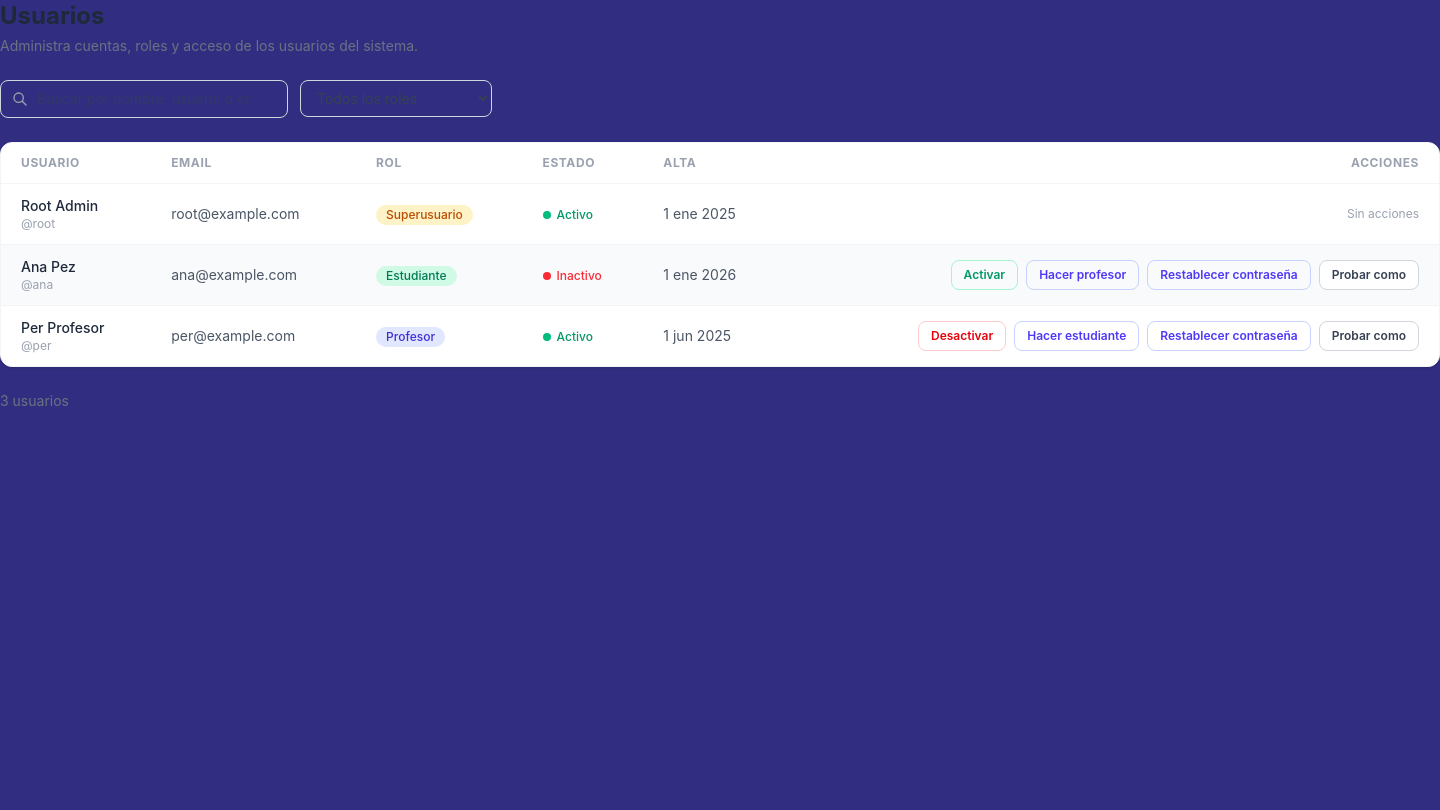
it: AdminUsersPage › rechaza una contraseña corta en el modal de restablecimiento
This screenshot has width=1440, height=810.
Click the button "Restablecer contraseña" in the row of "Ana Pez": point(1229, 275) [1147,260,1311,290]
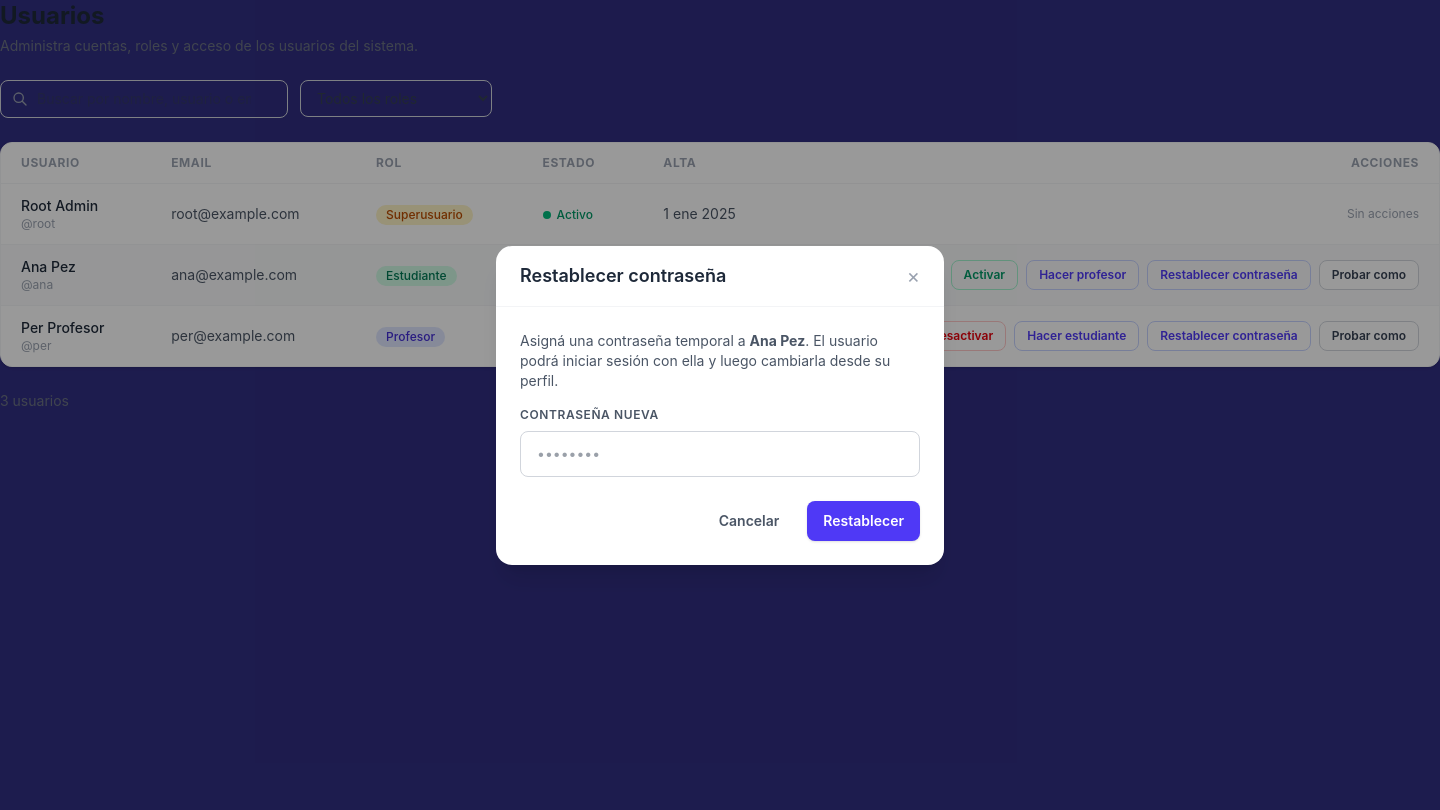
In the password field labelled "Contraseña nueva": point(720, 454) [520,430,920,476], type "123"
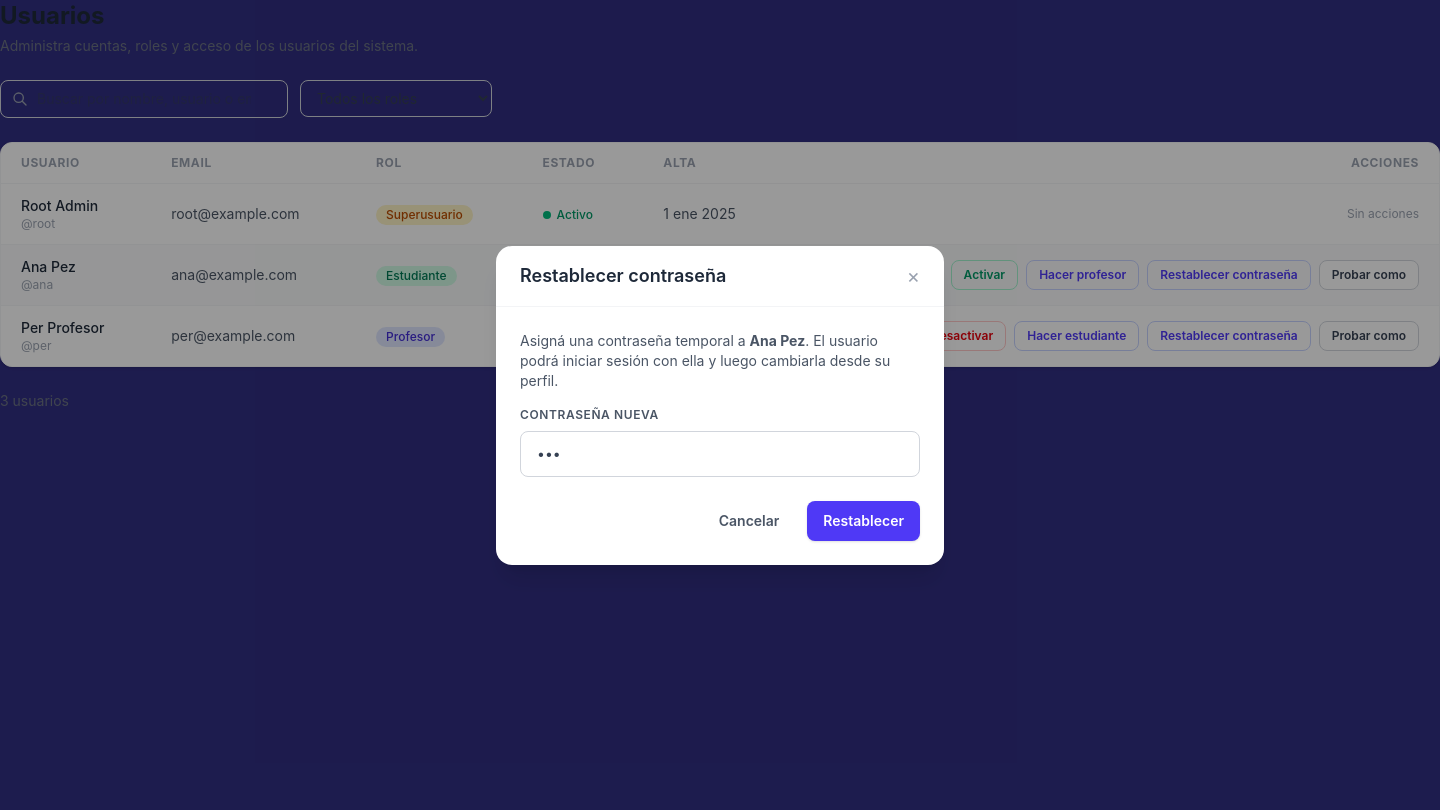
Click the button "Restablecer": point(864, 520) [807,500,920,540]
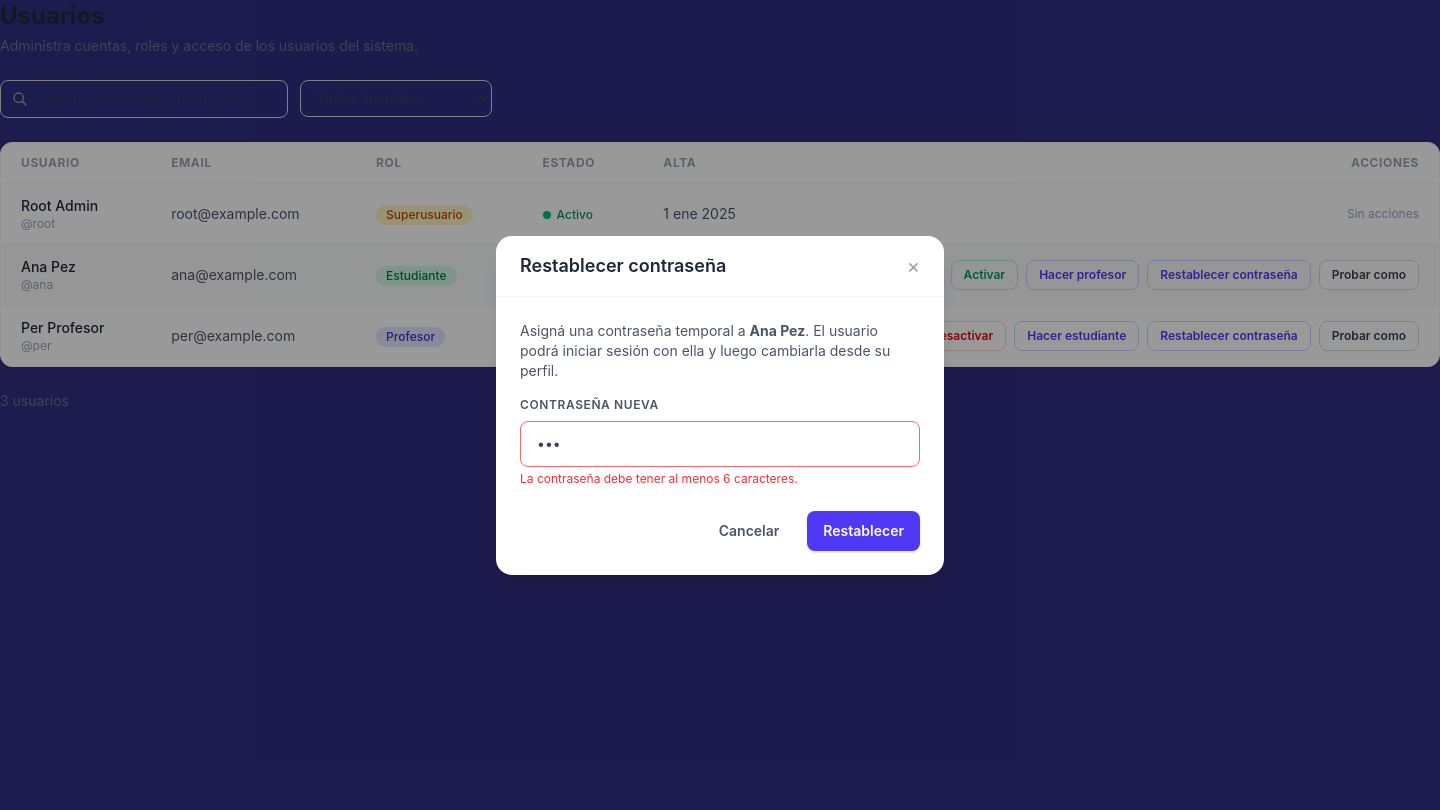
Now the text "La contraseña debe tener al menos 6 caracteres." is shown, box [520,470,798,486]
